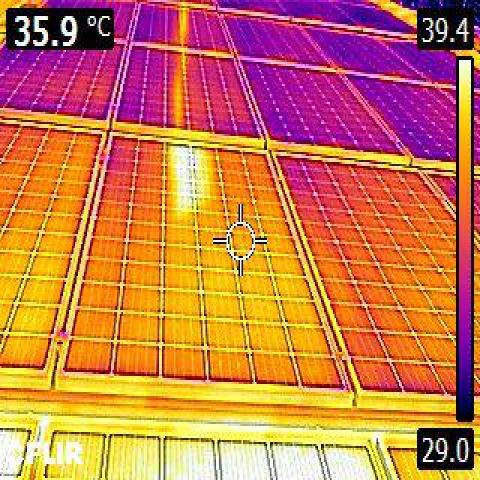fault: (172, 147, 207, 214)
